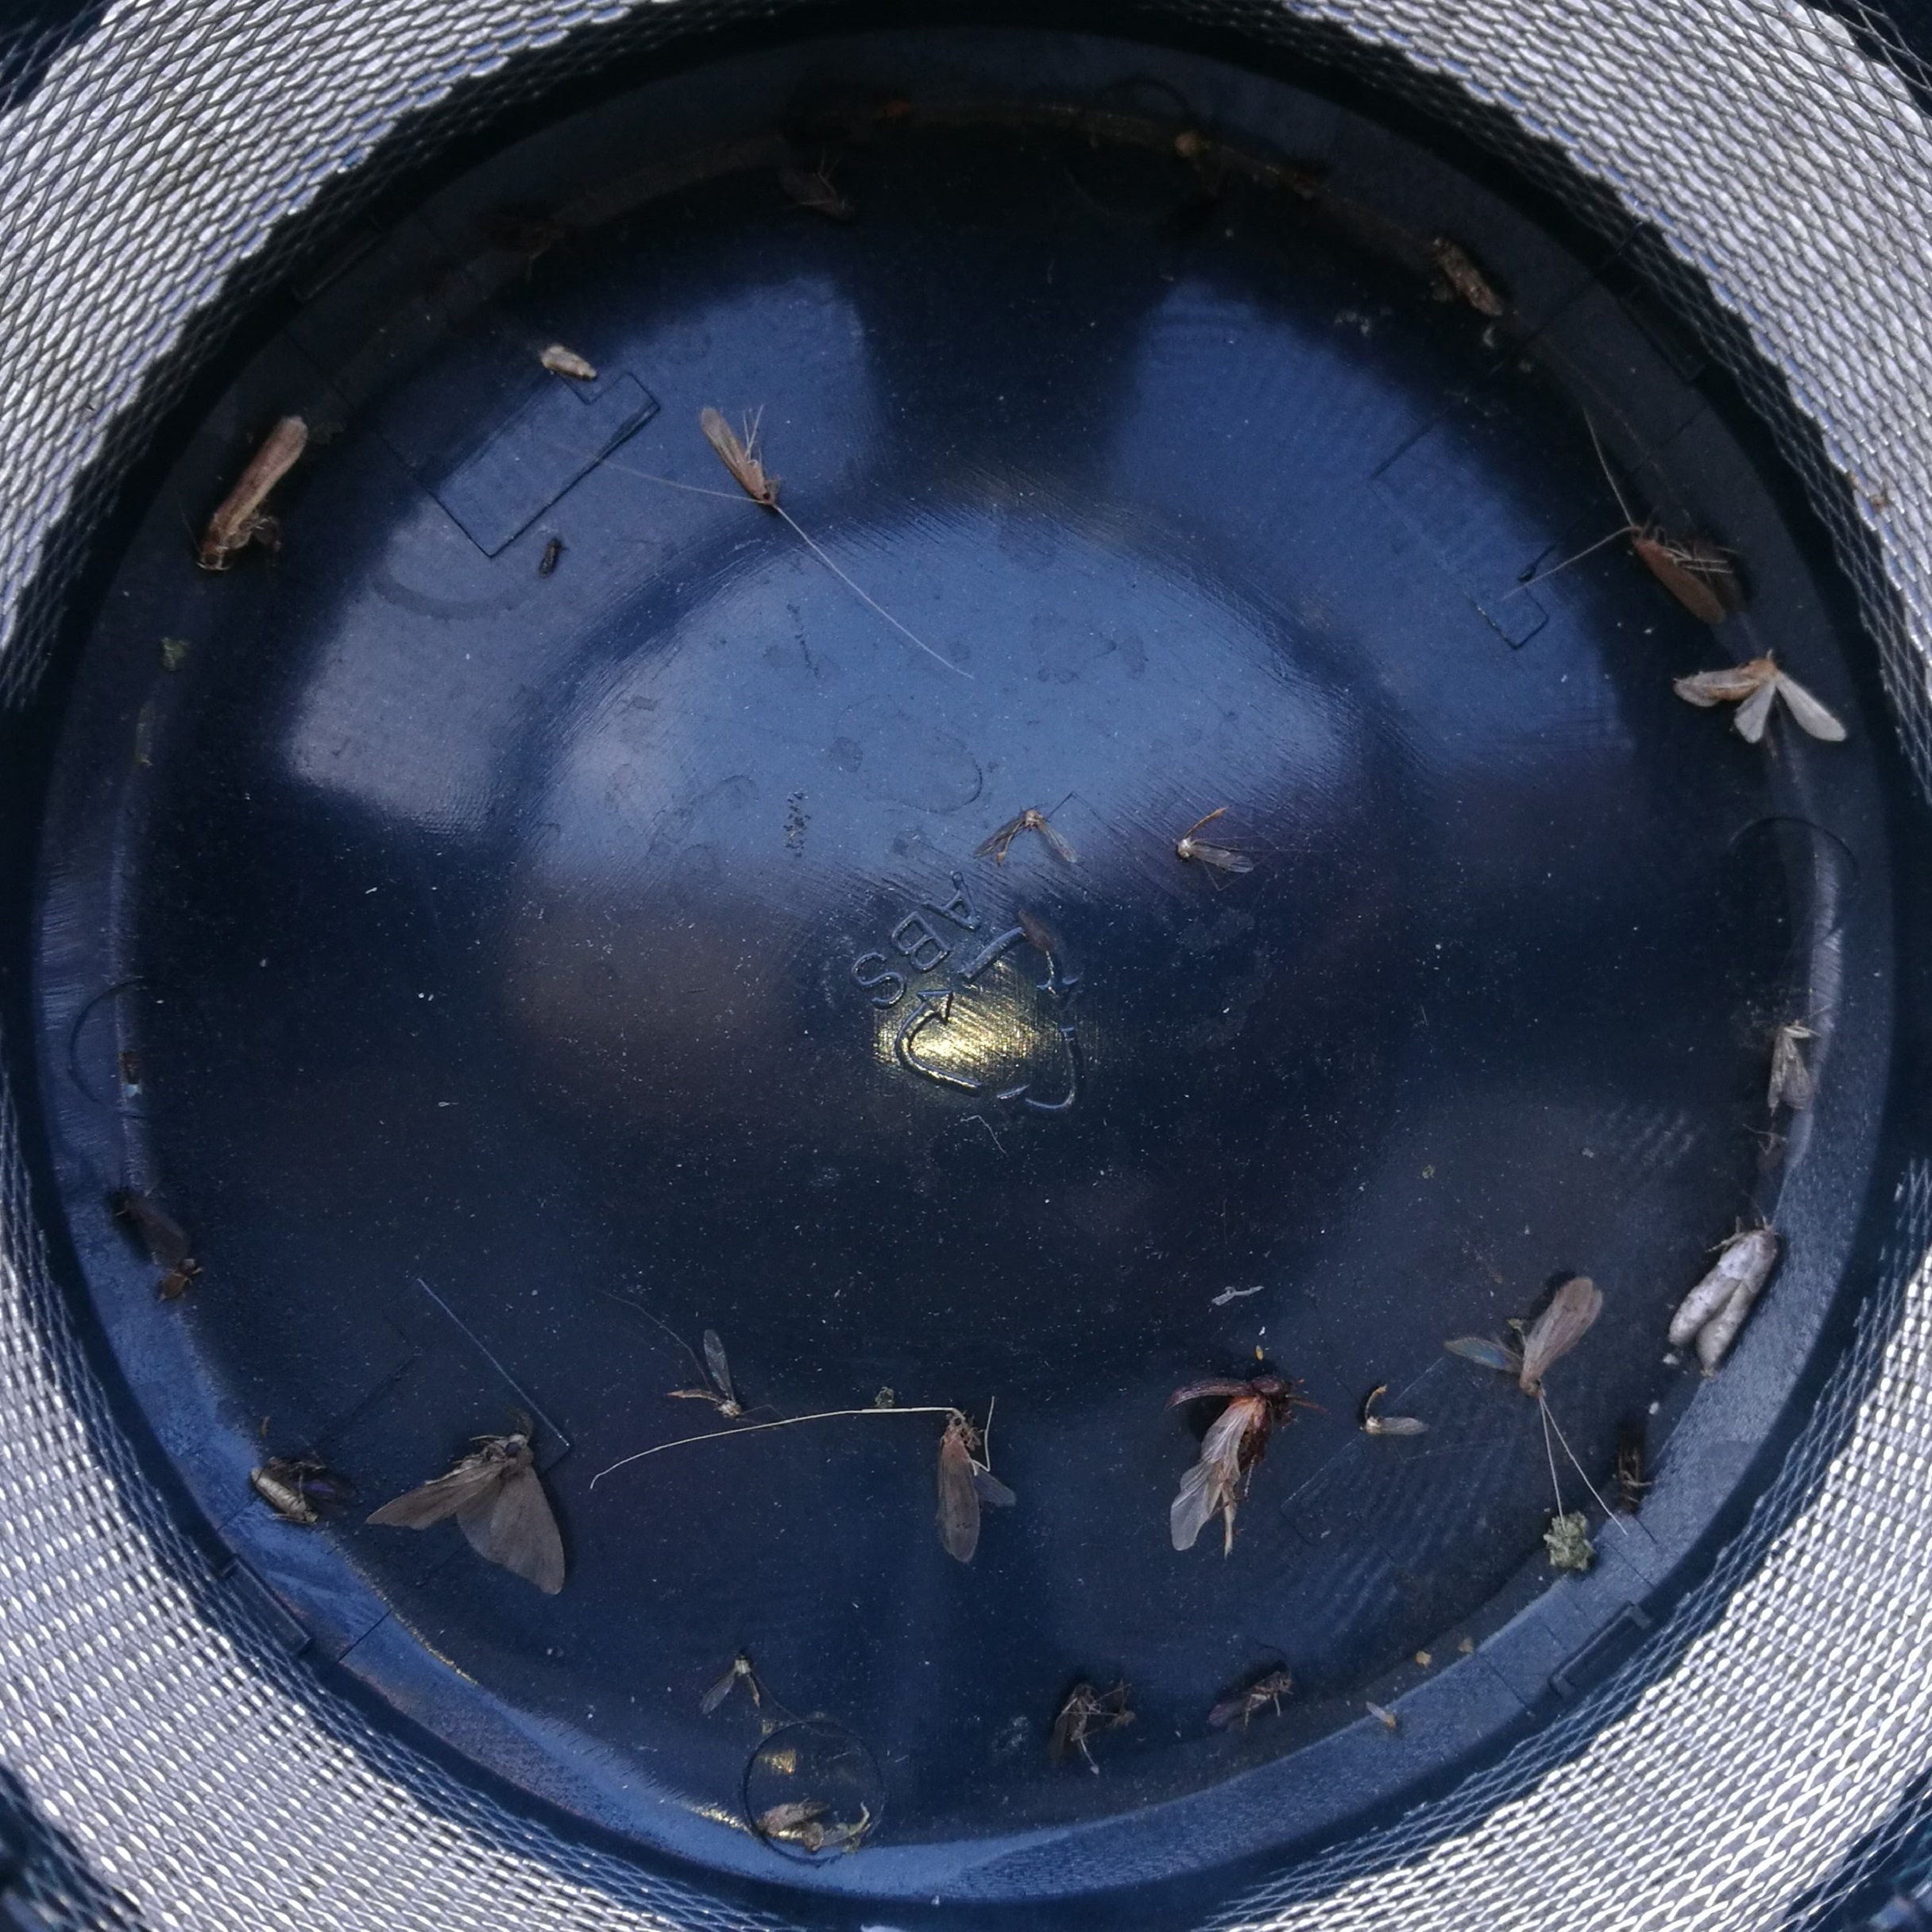mosquito: (202, 412, 308, 568), (1629, 529, 1739, 623), (1520, 1274, 1608, 1389), (699, 403, 778, 508), (938, 1412, 984, 1564), (669, 1327, 741, 1415), (770, 159, 858, 221), (1207, 1672, 1292, 1732), (1180, 809, 1249, 876), (699, 1658, 763, 1714)
moth: (366, 1428, 568, 1596), (1674, 653, 1851, 743), (1667, 1231, 1782, 1364)
